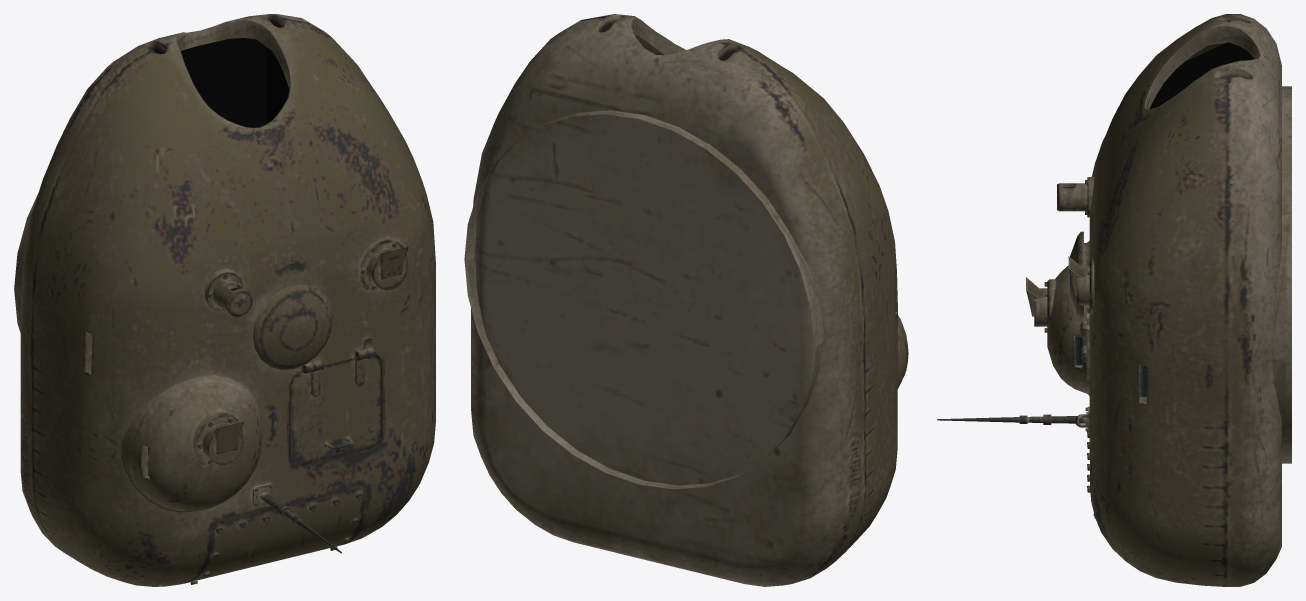
File: Turret_02.glb
3 renders of one model, left to right at view 1: azimuth 30°, elevation 25°; view 2: azimuth 150°, elevation 25°; view 3: azimuth 270°, elevation 25°, orthographic. The views are drawn at different scales.
Parts seen in each view (by area): view 1: set_0_group_0; view 2: set_0_group_0; view 3: set_0_group_0.
Part boxes in pixels (box(x1,y1,x2,y2)): set_0_group_0: box(14, 14, 435, 586); set_0_group_0: box(464, 14, 908, 586); set_0_group_0: box(937, 14, 1291, 586).
Size of the model in its own units: 1.76 by 2.33 by 1.51.
Materials: 1 (1 with a texture image).
